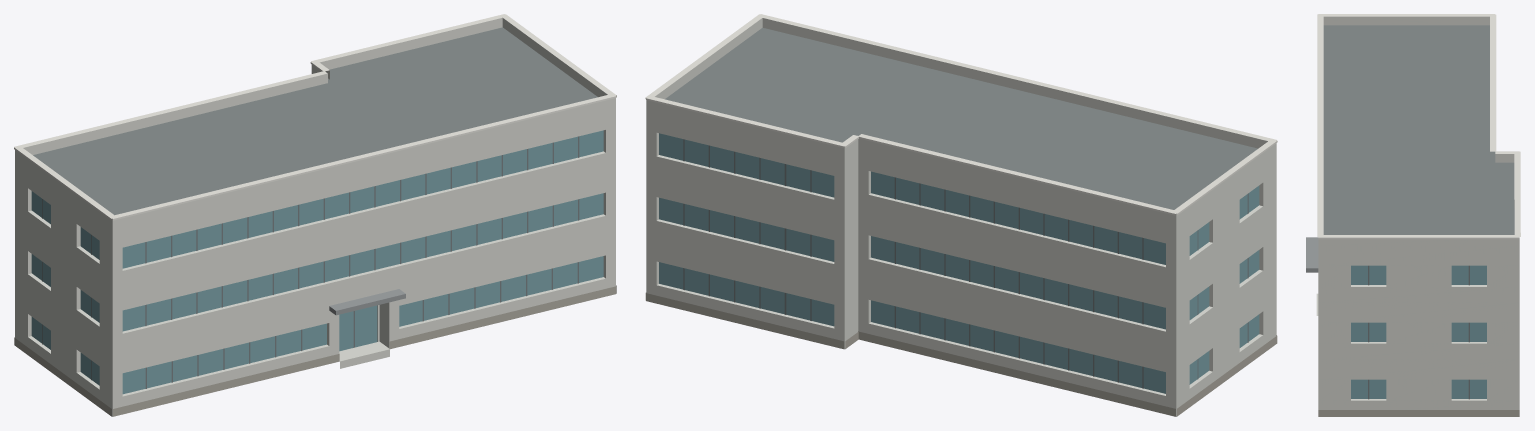
The picture shows the model from 3 angles, left to right: view 1: azimuth 30°, elevation 25°; view 2: azimuth 150°, elevation 25°; view 3: azimuth 270°, elevation 25°; orthographic projection. The views are drawn at different scales.
Visible parts, largest first — view 1: reactor__wall, reactor__roof, reactor__glass, reactor__parapet, reactor__trim, reactor__base, reactor__frame, reactor__entranceThreshold_0, reactor__canopy; view 2: reactor__wall, reactor__roof, reactor__glass, reactor__parapet, reactor__trim, reactor__base, reactor__frame; view 3: reactor__roof, reactor__wall, reactor__trim, reactor__glass, reactor__parapet, reactor__base, reactor__canopy, reactor__frame.
Part boxes in pixels (<box>): reactor__wall: <box>15,71,615,416</box>; reactor__roof: <box>33,27,597,416</box>; reactor__glass: <box>31,130,603,394</box>; reactor__parapet: <box>15,17,615,227</box>; reactor__trim: <box>14,14,616,220</box>; reactor__base: <box>14,285,616,416</box>; reactor__frame: <box>42,136,579,388</box>; reactor__entranceThreshold_0: <box>339,341,389,368</box>; reactor__canopy: <box>329,289,405,315</box>; reactor__wall: <box>646,107,1276,416</box>; reactor__roof: <box>665,27,1257,416</box>; reactor__glass: <box>659,133,1259,393</box>; reactor__parapet: <box>646,18,1276,223</box>; reactor__trim: <box>645,14,1277,215</box>; reactor__base: <box>645,292,1277,416</box>; reactor__frame: <box>683,139,1248,388</box>; reactor__roof: <box>1323,25,1514,234</box>; reactor__wall: <box>1318,246,1519,409</box>; reactor__trim: <box>1317,14,1520,239</box>; reactor__glass: <box>1351,265,1486,398</box>; reactor__parapet: <box>1318,16,1519,245</box>; reactor__base: <box>1318,410,1519,416</box>; reactor__canopy: <box>1306,237,1318,272</box>; reactor__frame: <box>1368,265,1469,399</box>.
Bounding box in the file's own units: 30.32 × 11.75 × 12.3.
